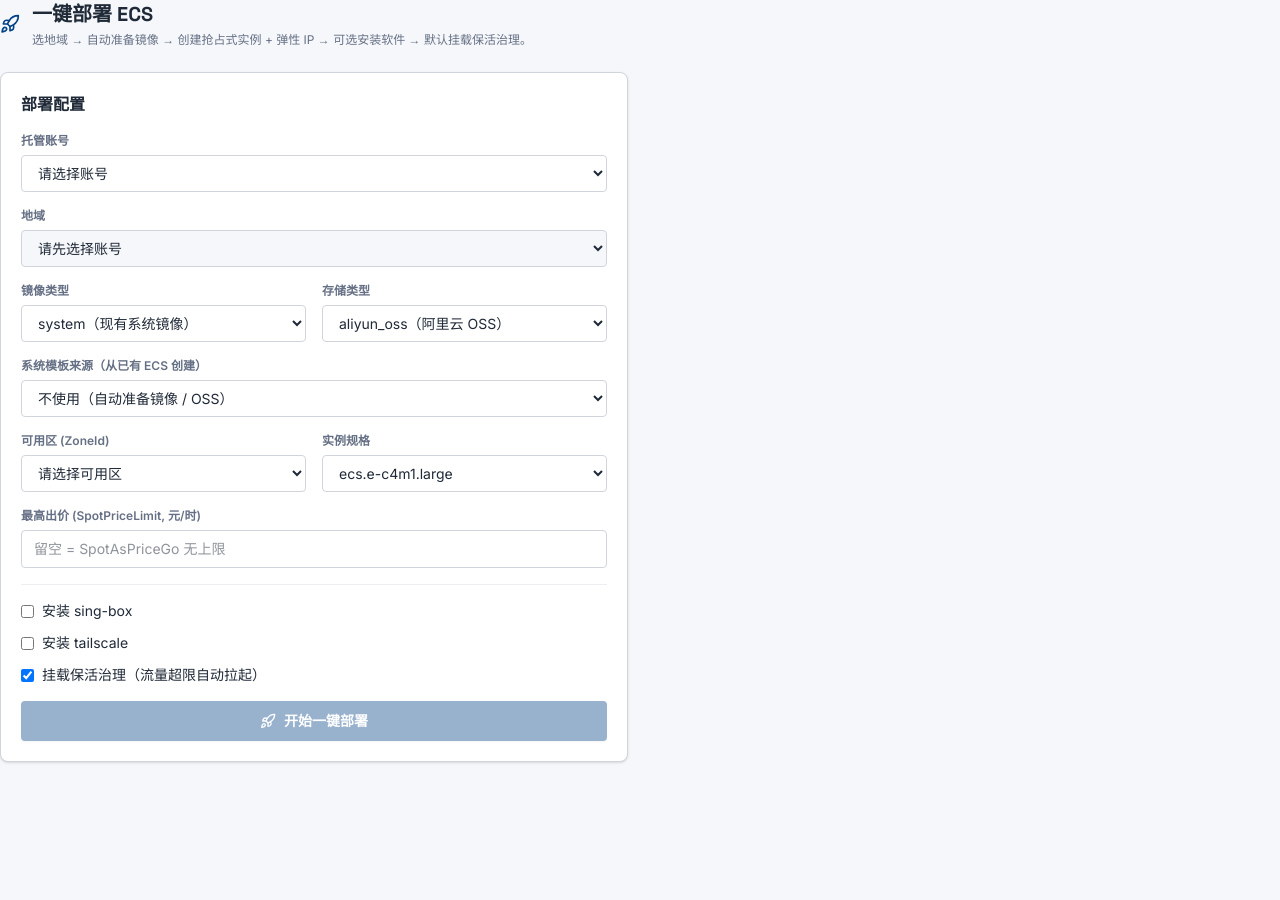
Test: DeploymentPage form › hides continue button and shows auto-install waiting hint while auto-installer is running in vnc-install-system
Select "Account A" in the dropdown labelled "托管账号" at (314, 174), box [21,155,607,192]
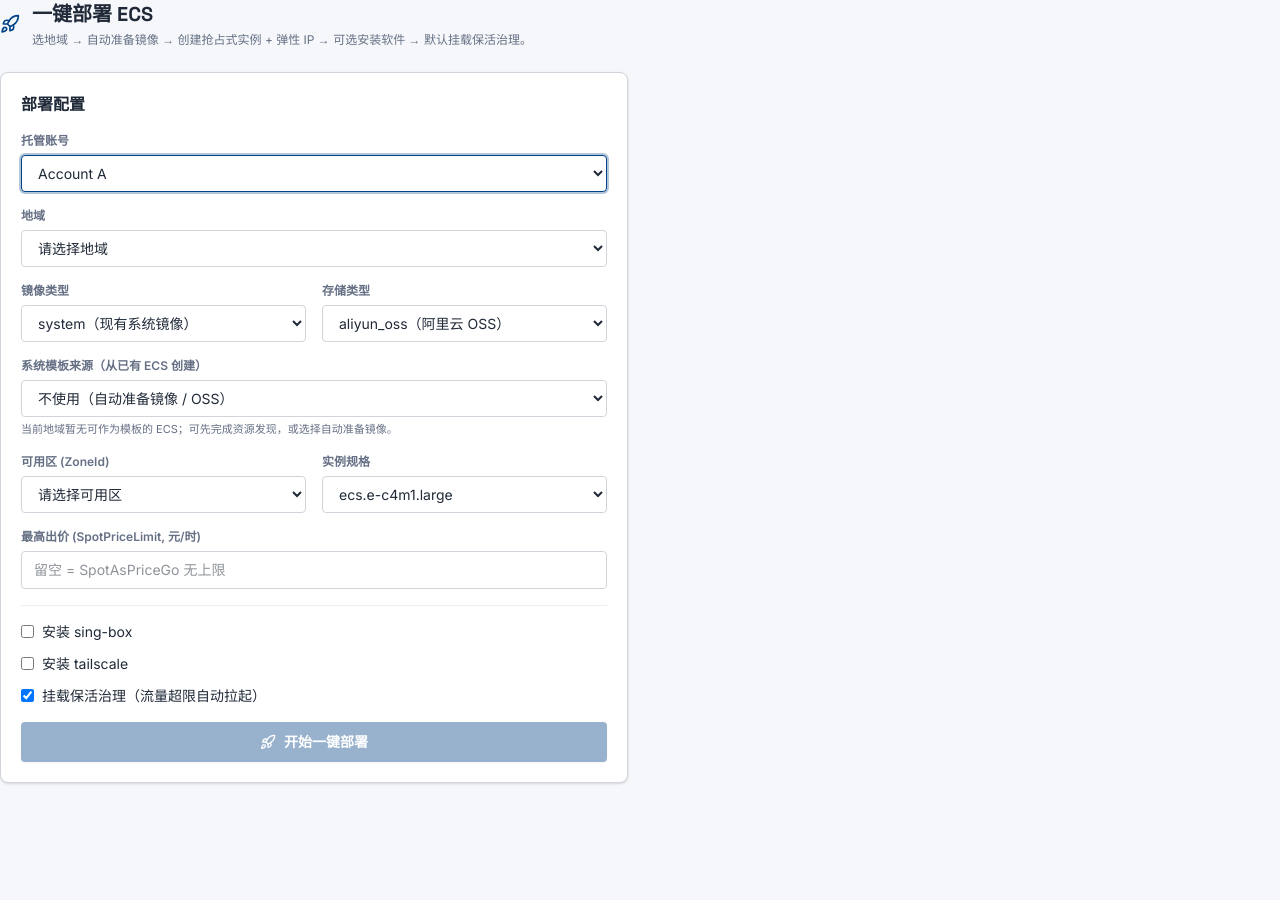
Select "美国 (硅谷) (us-west-1)" in the dropdown labelled "地域" at (314, 248), box [21,230,607,267]
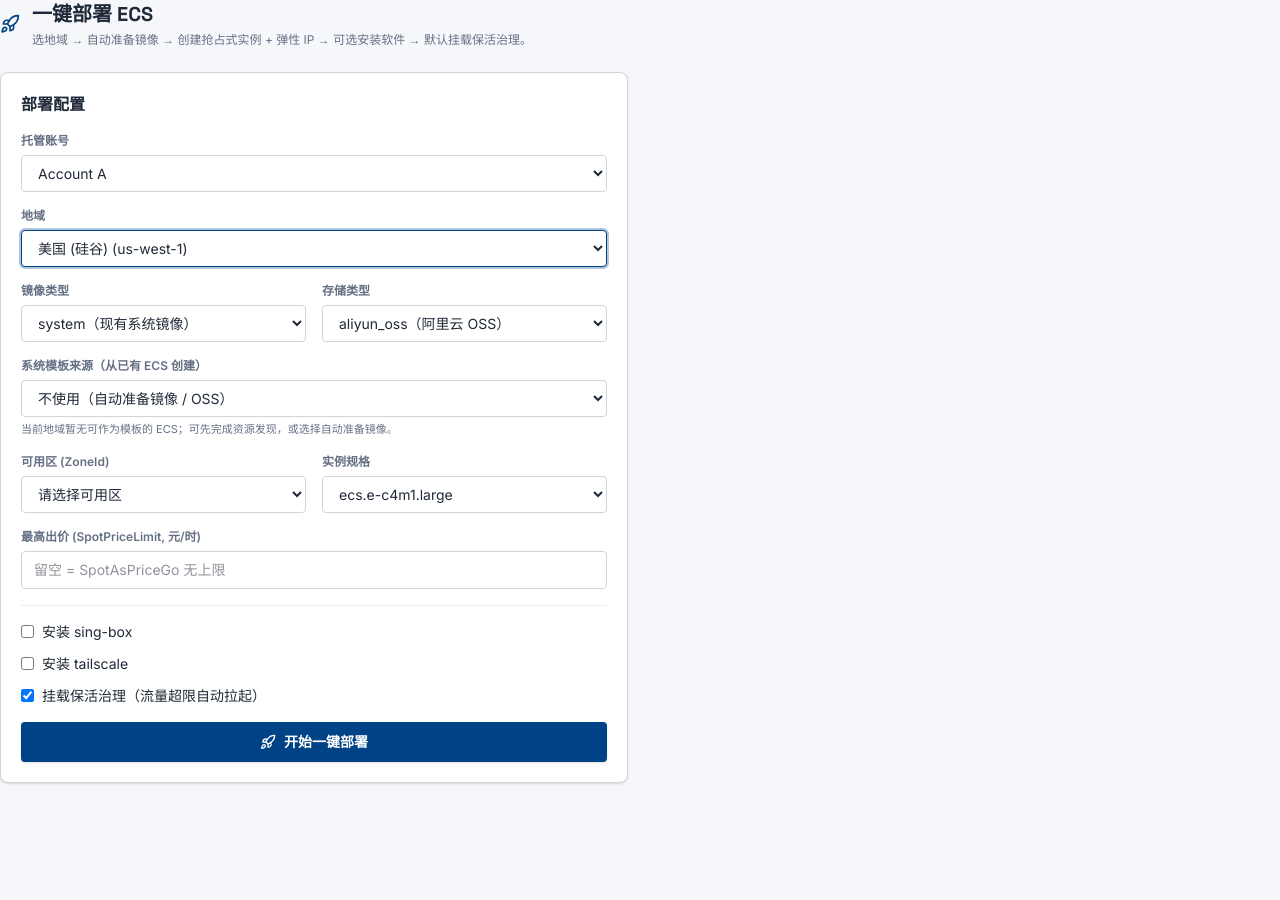
Click the button "开始一键部署" at (314, 742), box [21,722,607,762]
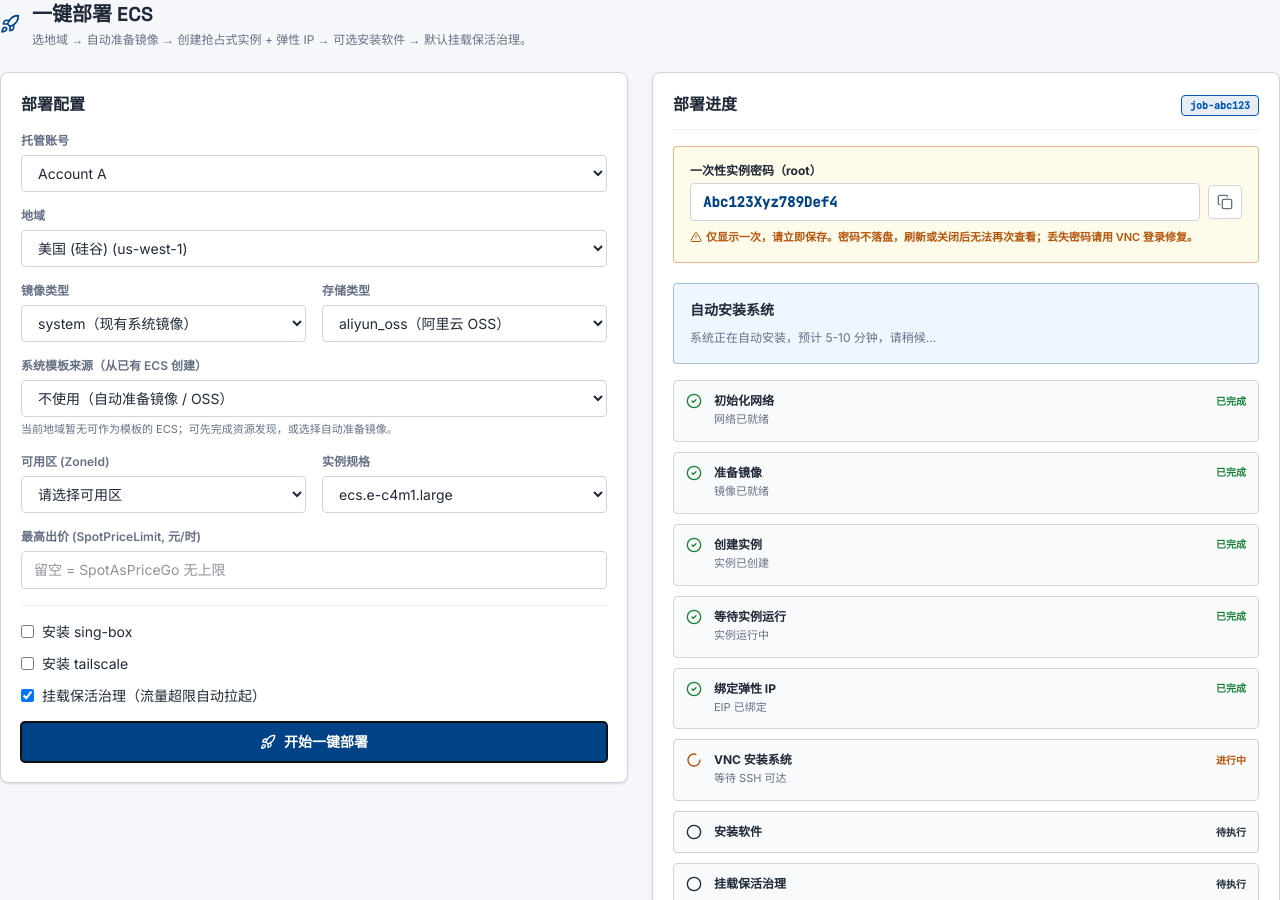
Expected: the text "系统正在自动安装，预计 5-10 分钟，请稍候…" is shown, [690,330,936,344]
